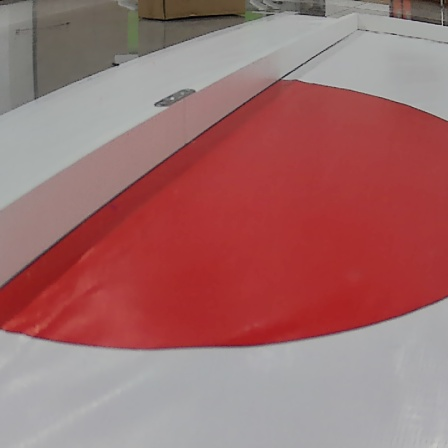red_base: (3, 74, 448, 359)
